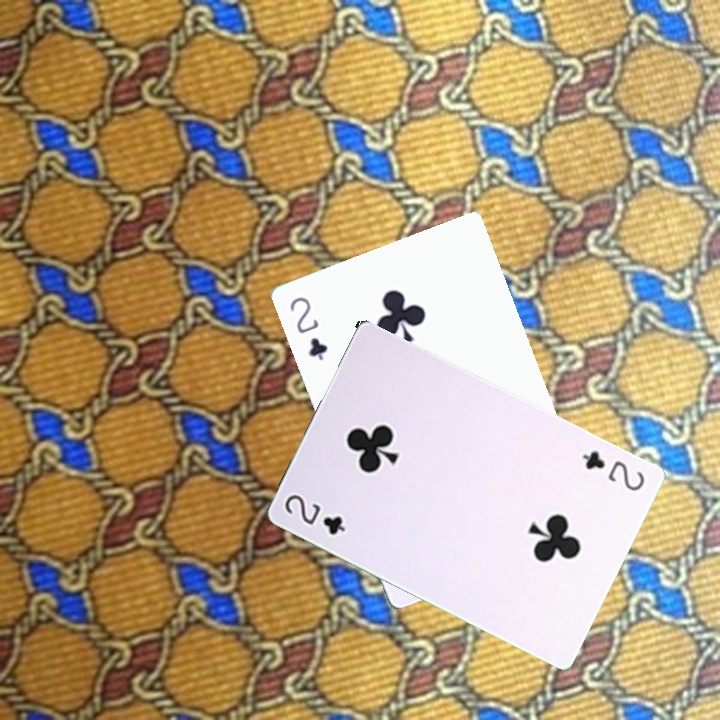2c: (578, 446, 648, 494), (280, 489, 348, 538), (285, 292, 331, 363)
